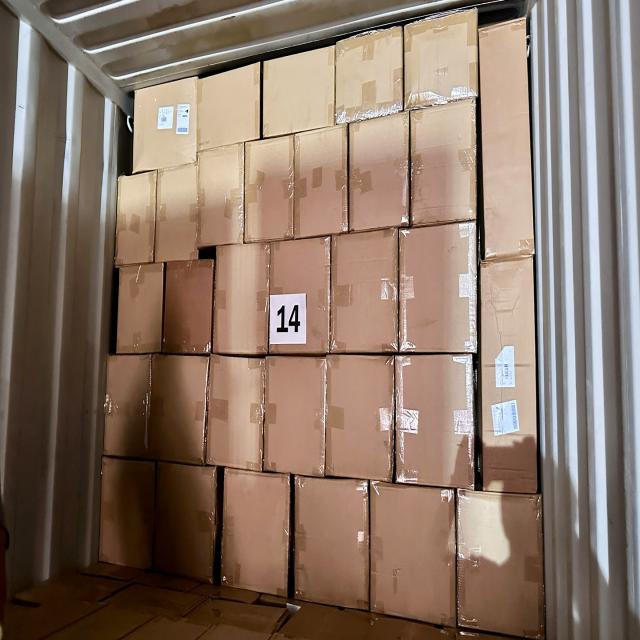Carton: (478, 24, 540, 259), (479, 261, 539, 495), (458, 489, 544, 640), (372, 480, 458, 628), (395, 354, 477, 490), (294, 476, 372, 614), (398, 227, 474, 351), (223, 466, 290, 600), (326, 354, 394, 482), (330, 234, 400, 354), (409, 102, 477, 223), (266, 354, 326, 477), (348, 115, 411, 231), (156, 462, 216, 582), (270, 240, 329, 355), (406, 9, 479, 100), (336, 28, 404, 124), (264, 44, 336, 130), (210, 355, 264, 469), (101, 456, 154, 570), (294, 129, 349, 238), (134, 77, 198, 170), (152, 355, 206, 463), (214, 244, 266, 356), (198, 65, 262, 147), (106, 354, 154, 458), (246, 138, 294, 240), (198, 145, 244, 244), (165, 260, 211, 356), (159, 165, 199, 263), (118, 265, 162, 353), (116, 173, 154, 265)
